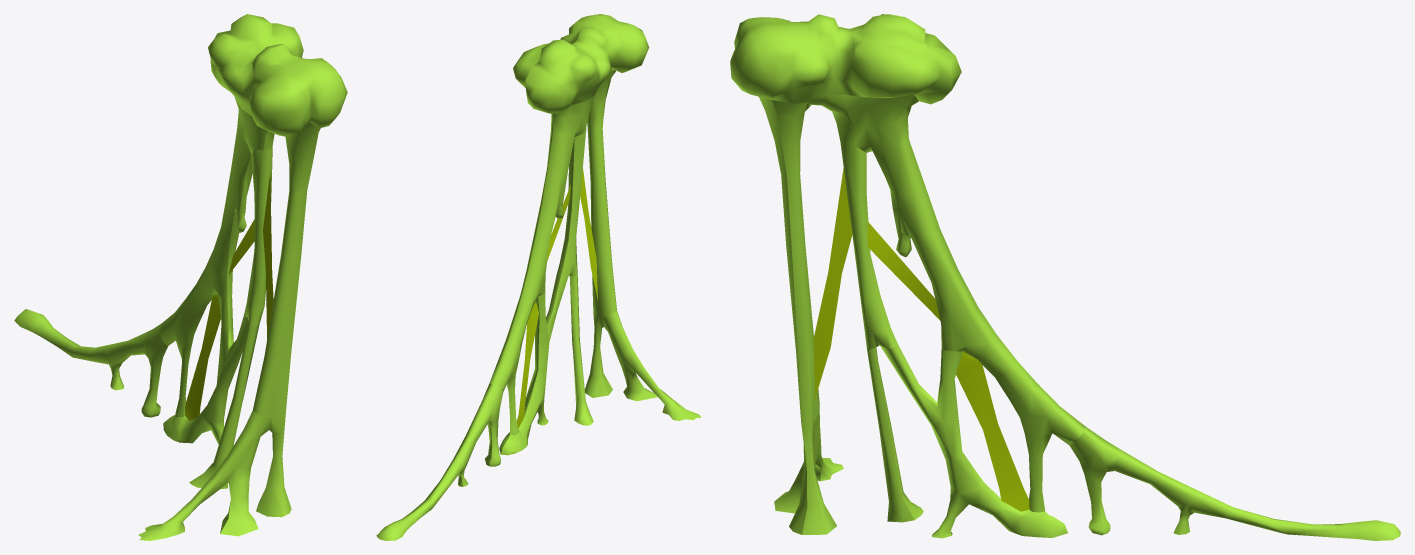
Rendered from env_garbage_slimethread01.fbx.
The picture shows the model from 3 angles, left to right: view 1: azimuth 30°, elevation 25°; view 2: azimuth 150°, elevation 25°; view 3: azimuth 270°, elevation 25°; orthographic projection. The views are drawn at different scales.
Parts seen in each view (by area): view 1: slimethreads, Plane.004; view 2: slimethreads, Plane.004; view 3: slimethreads, Plane.004.
Boxes of the visible parts, x1,y1,x2,y2 form: slimethreads: [14, 14, 347, 540]; Plane.004: [185, 172, 273, 420]; slimethreads: [376, 14, 701, 540]; Plane.004: [517, 168, 598, 427]; slimethreads: [730, 14, 1400, 540]; Plane.004: [813, 168, 1029, 511].
Bounding box in the file's own units: 18.13 × 41.23 × 48.04.
